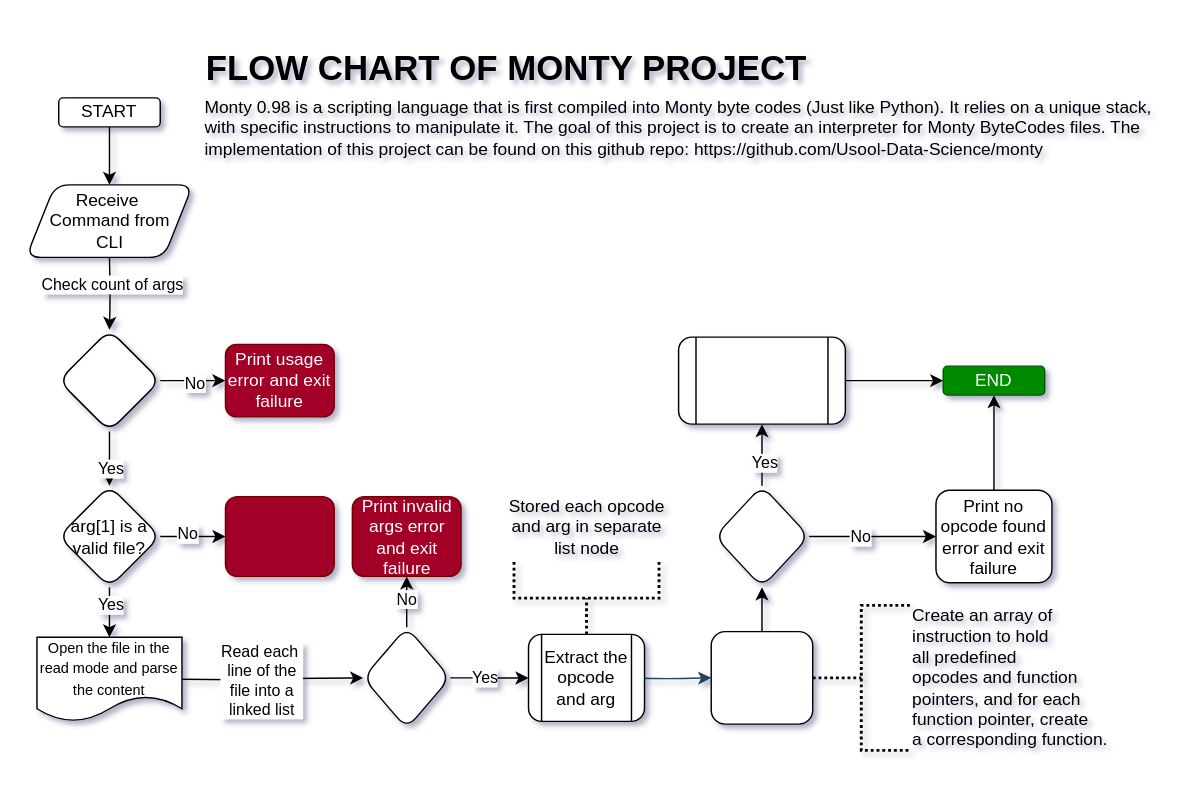
Some shapes in this 1190 by 786 pixel diagram are drawn without their labels. The box of each missing label's shape, as (x1, y1, x2, y2) in pixels:
args != 2: (57, 328, 160, 431)
Compare opcode with predefined opcodes: (710, 630, 813, 724)
Execute the function pointer and return result to stdout: (677, 336, 845, 424)
Opcode match?: (713, 484, 809, 587)
Print can't open file error and exit failure: (224, 495, 334, 576)
Valid args?: (362, 626, 450, 729)
